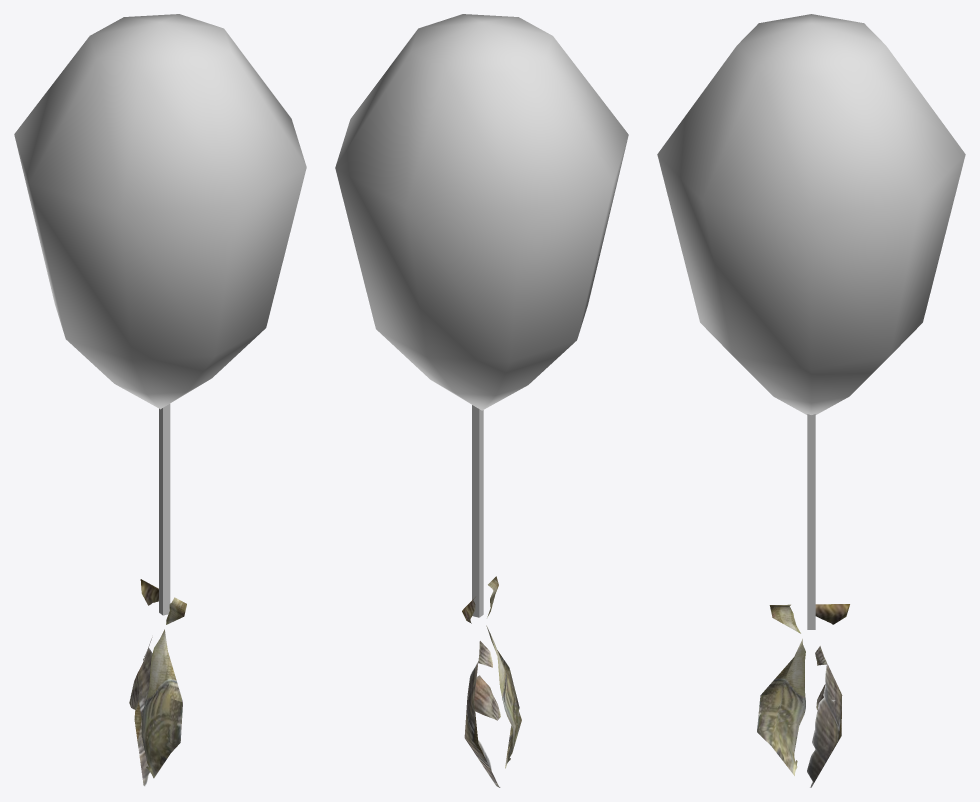
File: balloon_exp_001.dae
3 renders of one model, left to right at view 1: azimuth 30°, elevation 25°; view 2: azimuth 150°, elevation 25°; view 3: azimuth 270°, elevation 25°, orthographic.
Parts seen in each view (by area): view 1: Sphere, pike_lowRes_geo; view 2: Sphere, pike_lowRes_geo; view 3: Sphere, pike_lowRes_geo.
Boxes of the visible parts, <box> form: Sphere: <box>14,14,306,615</box>; pike_lowRes_geo: <box>129,579,186,786</box>; Sphere: <box>335,14,628,617</box>; pike_lowRes_geo: <box>462,576,521,787</box>; Sphere: <box>657,14,965,629</box>; pike_lowRes_geo: <box>757,604,849,787</box>.
Size of the model in its own units: 2.43 by 2.43 by 6.72.
